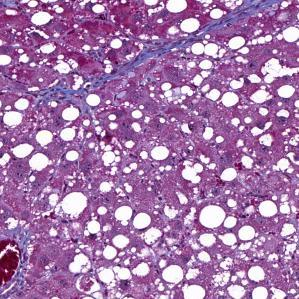fibrosis: (125, 24, 188, 73)
